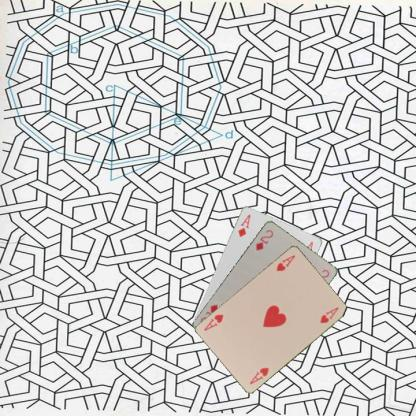2d: (253, 227, 275, 251)
Ad: (235, 212, 251, 238)
Ah: (246, 364, 270, 386), (274, 252, 296, 273)
